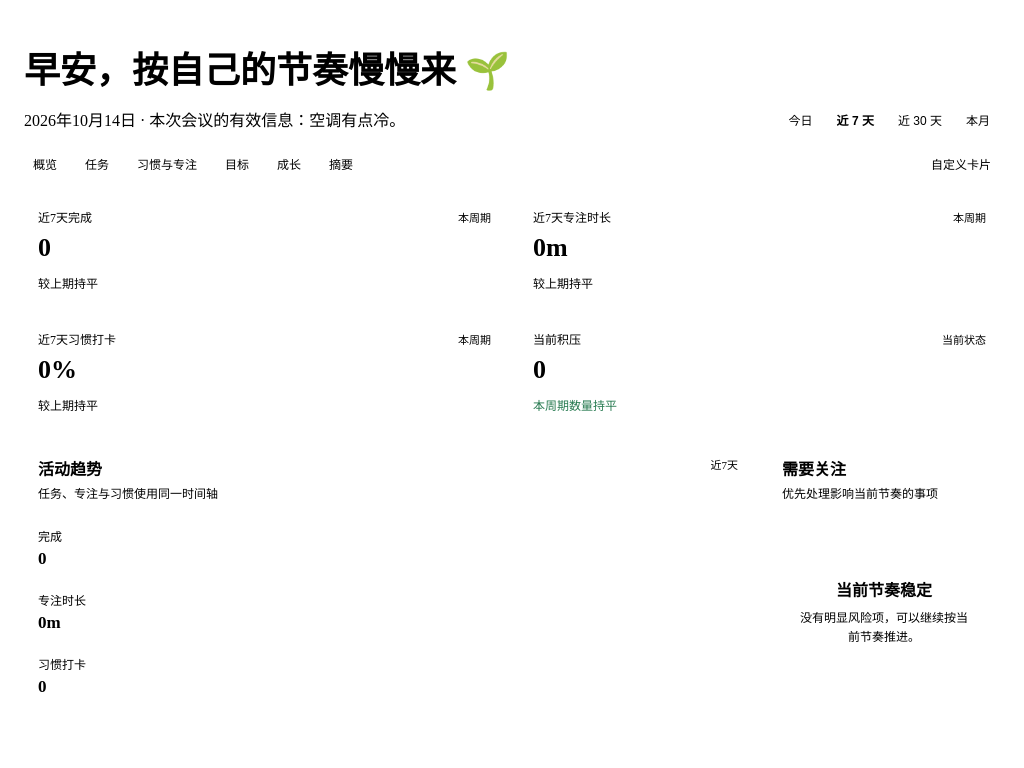
Scenario: PersonalStatsView › switches between overview and detail tabs
Click the tab "任务": (97, 164) left=74, top=148, right=120, bottom=180
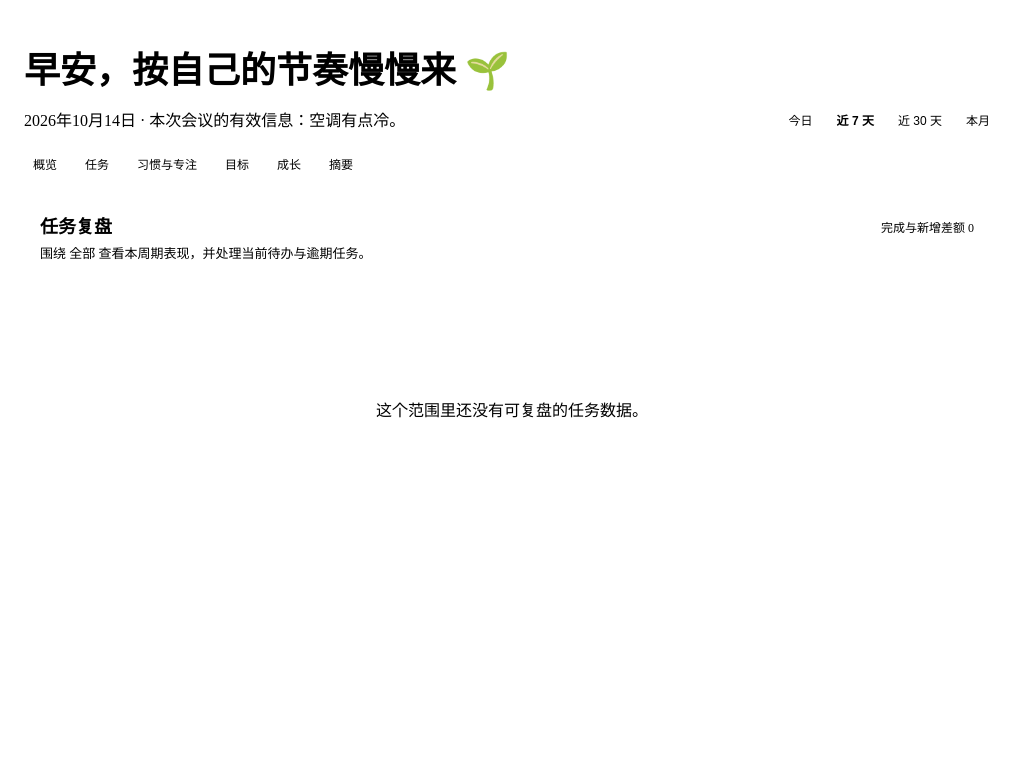
Result: the element with class "tasks-panel" is shown at left=40, top=217, right=974, bottom=419
Click the tab "习惯与专注": (167, 164) left=126, top=148, right=208, bottom=180
(page scrolled)
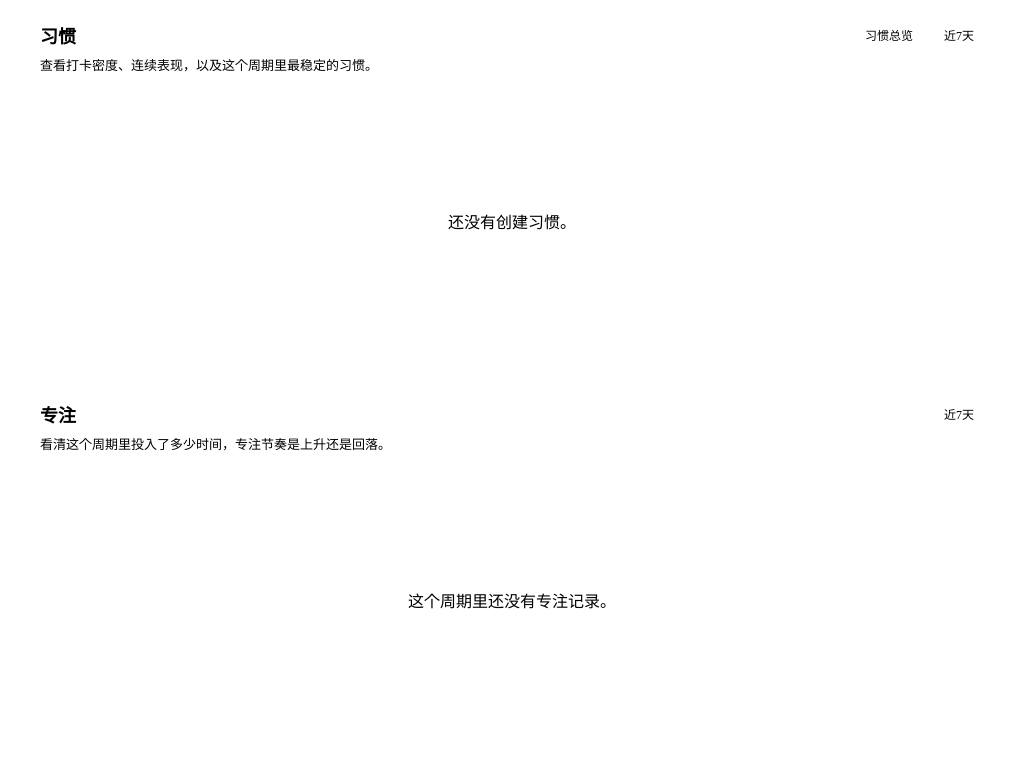
Result: the element with class "habits-panel" is shown at left=40, top=20, right=974, bottom=231
Result: the element with class "focus-panel" is shown at left=40, top=406, right=974, bottom=610
